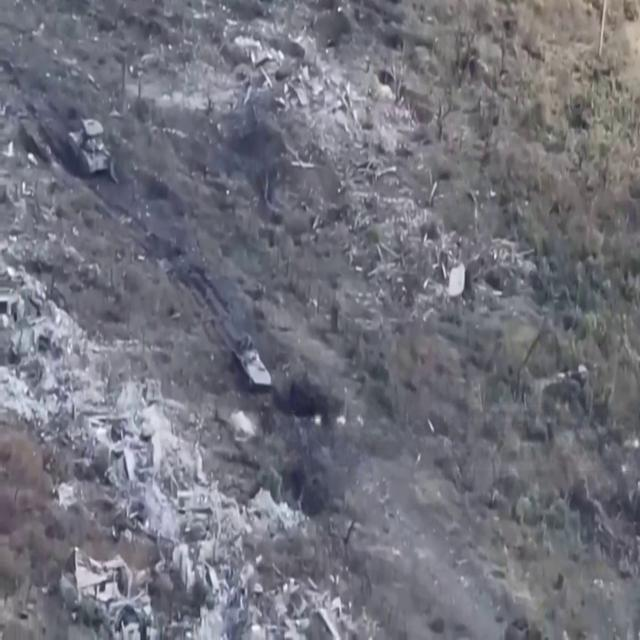AIFV: (230, 332, 274, 392)
MBT: (68, 115, 115, 192)
